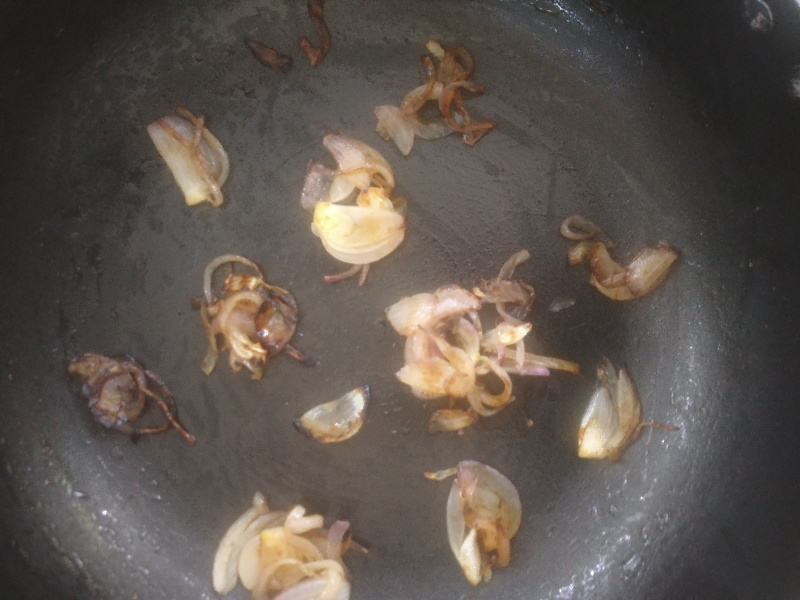onion_fried: (199, 255, 303, 381), (388, 44, 495, 149), (443, 459, 521, 586), (565, 215, 676, 301)
onion_golden: (394, 280, 553, 427), (311, 135, 408, 268), (150, 102, 229, 208), (244, 525, 332, 596)
